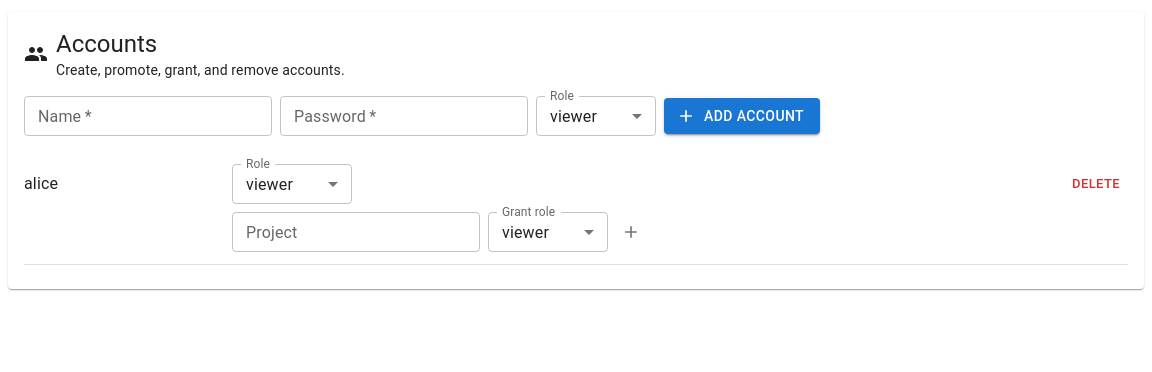
Test case: a failed delete surfaces the error and keeps the row
Expected: the text "alice" is shown, [24,174,58,193]
Click the button "Delete" at (1096, 184), box [1064,169,1128,200]
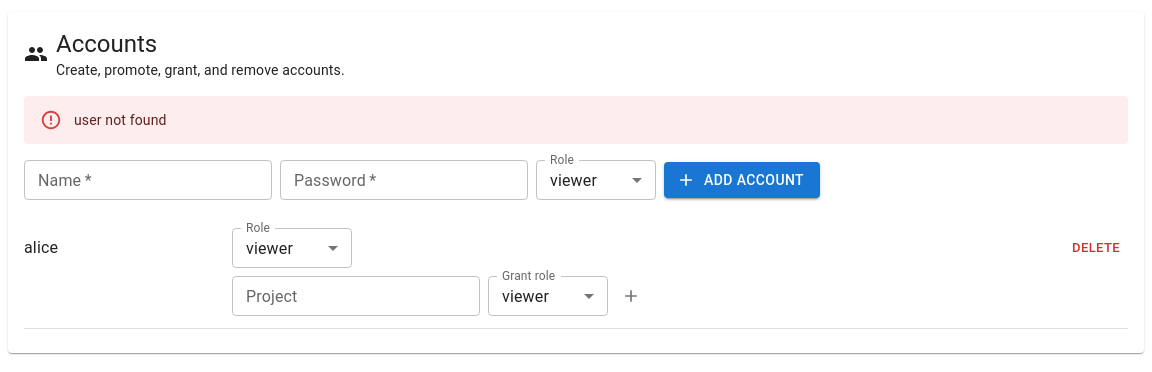
Expected: the text "alice" is shown, [24,238,58,257]
Now the text "user not found" is shown, box [74,112,167,128]
